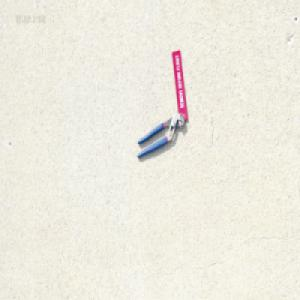Label: (172, 48, 189, 120)
Pliers: (136, 111, 184, 158)
